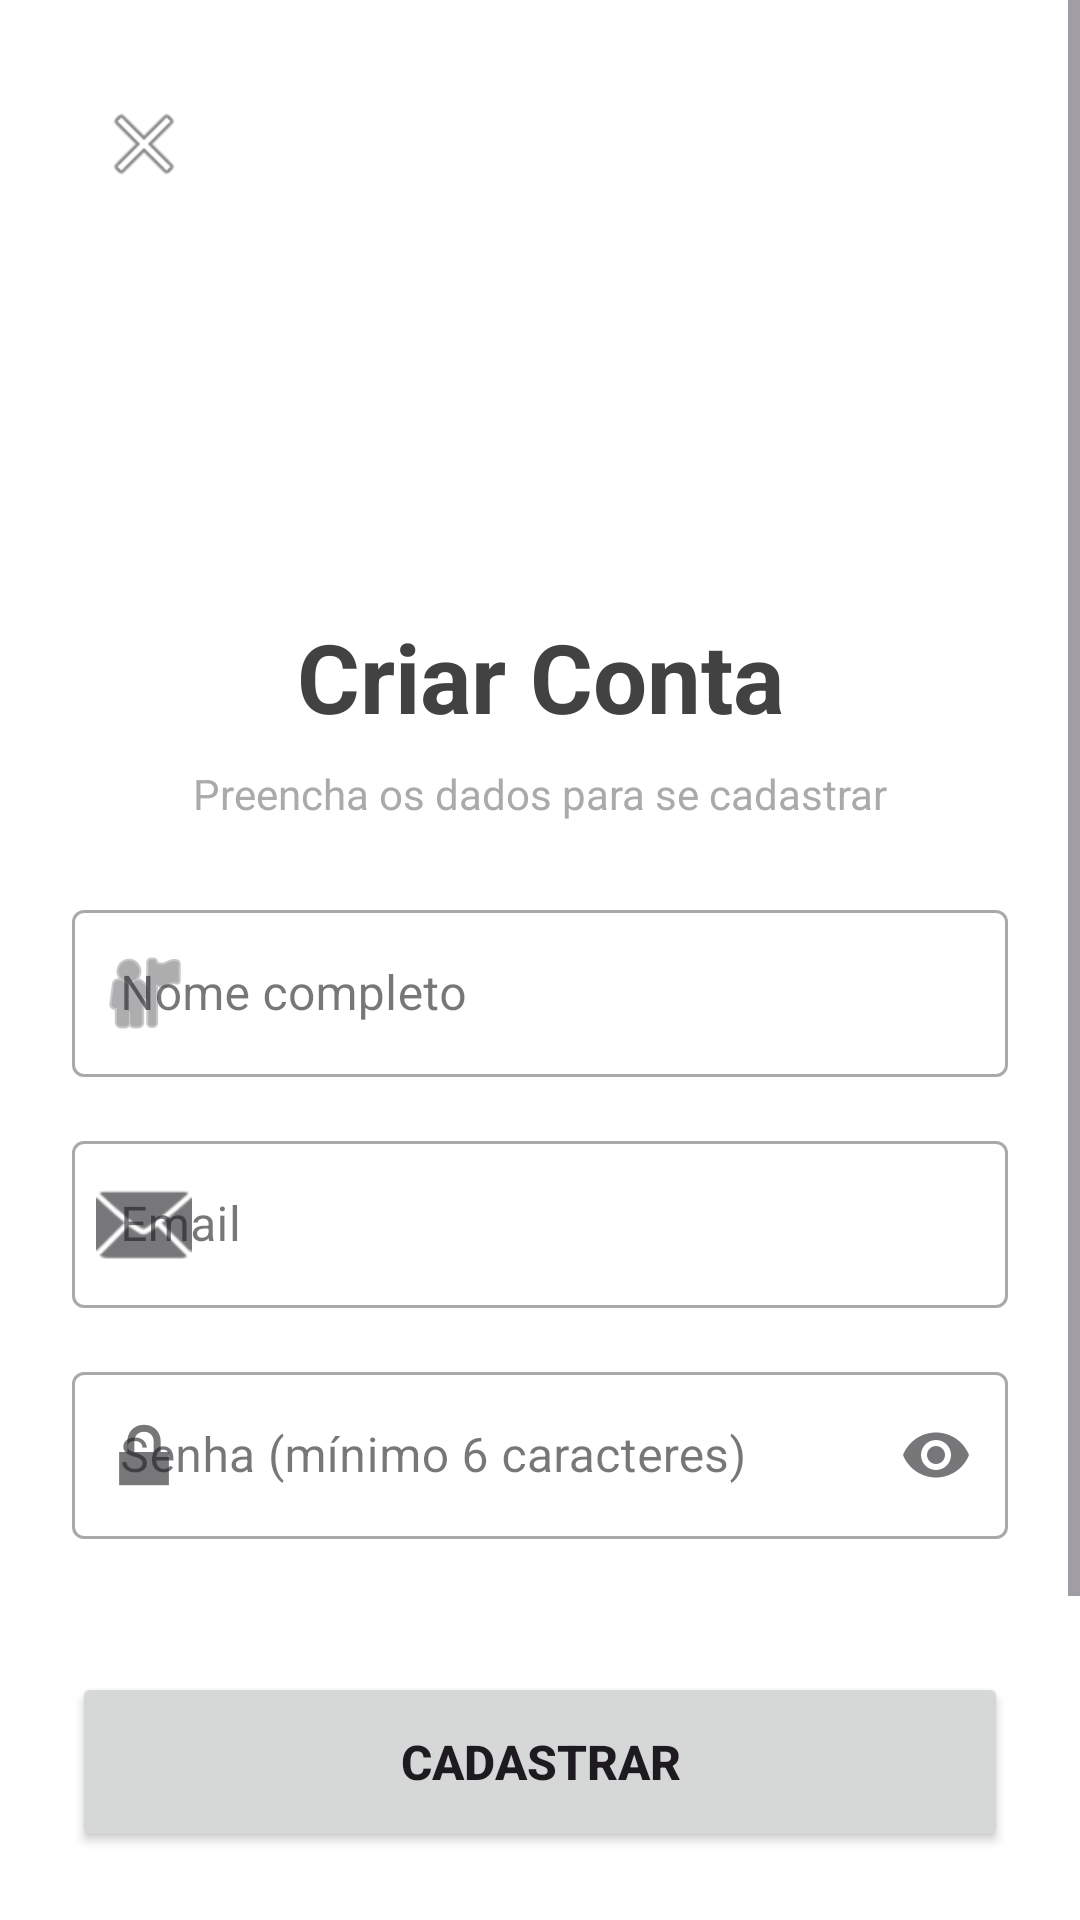

Icon bounding boxes for this 1080px x 1920px phone screenshot, format BBox(x1, y1, x2, y2):
Voltar: BBox(114, 114, 174, 174)
